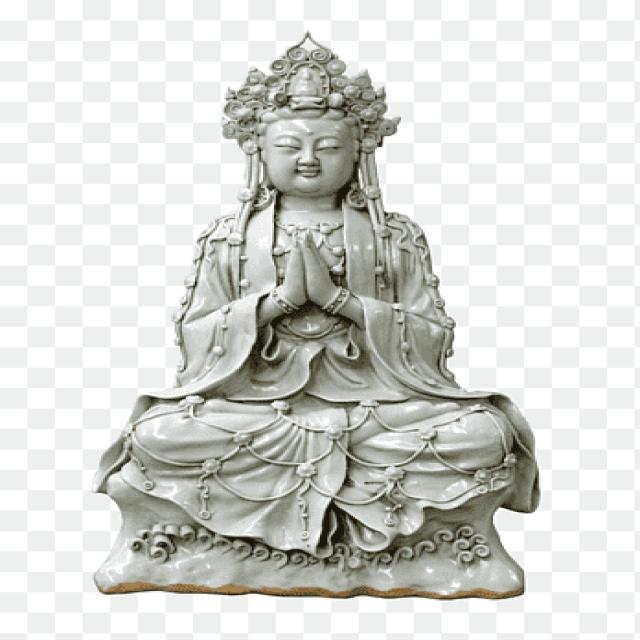Guan Yin: (125, 27, 506, 471)
